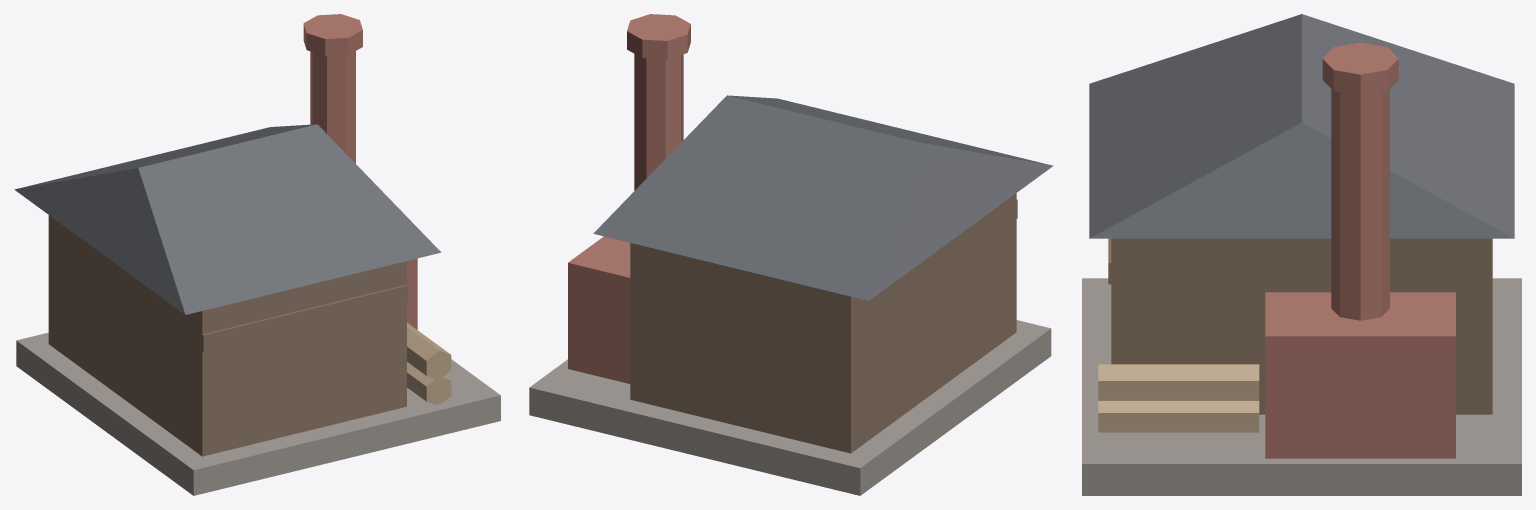
File: industrial_l1_workshop.glb
3 views of the same model, side by side, from view 1: azimuth 30°, elevation 25°; view 2: azimuth 150°, elevation 25°; view 3: azimuth 270°, elevation 25° (orthographic). The views are drawn at different scales.
Parts seen in each view (by area): view 1: Workshop_Shed, Shed_Roof, Stone_Base, Bay_Lintel, Smokestack, Chimney_Rim, Log2, Log1, Kiln_Base; view 2: Workshop_Shed, Shed_Roof, Stone_Base, Kiln_Base, Smokestack, Chimney_Rim; view 3: Shed_Roof, Workshop_Shed, Stone_Base, Kiln_Base, Smokestack, Log2, Log1, Chimney_Rim, Bay_Lintel.
Part boxes in pixels (<box>): Workshop_Shed: <box>48,215,406,456</box>; Shed_Roof: <box>14,124,441,314</box>; Stone_Base: <box>16,332,500,495</box>; Bay_Lintel: <box>194,284,408,352</box>; Smokestack: <box>310,51,355,163</box>; Chimney_Rim: <box>303,14,362,56</box>; Log2: <box>407,322,451,378</box>; Log1: <box>407,362,451,404</box>; Kiln_Base: <box>407,258,417,329</box>; Workshop_Shed: <box>630,193,1016,453</box>; Shed_Roof: <box>593,95,1053,300</box>; Stone_Base: <box>529,320,1051,495</box>; Kiln_Base: <box>568,236,630,383</box>; Smokestack: <box>634,54,683,190</box>; Chimney_Rim: <box>627,14,690,59</box>; Shed_Roof: <box>1089,14,1514,238</box>; Workshop_Shed: <box>1111,238,1492,414</box>; Stone_Base: <box>1082,278,1521,495</box>; Kiln_Base: <box>1265,292,1455,458</box>; Smokestack: <box>1331,89,1389,320</box>; Log2: <box>1098,364,1259,400</box>; Log1: <box>1098,401,1259,432</box>; Chimney_Rim: <box>1322,42,1398,95</box>; Bay_Lintel: <box>1108,238,1131,284</box>.
Size of the model in its own units: 1.53 by 1.52 by 1.5.
